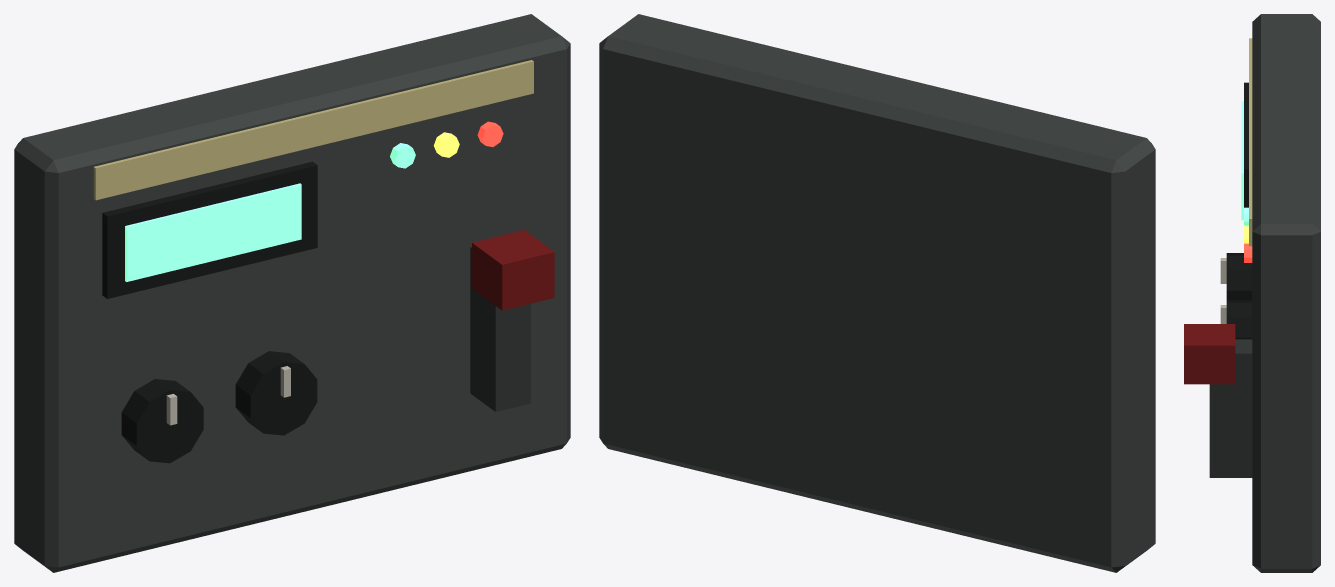
File: bang_dong_lanh.glb
3 renders of one model, left to right at view 1: azimuth 30°, elevation 25°; view 2: azimuth 150°, elevation 25°; view 3: azimuth 270°, elevation 25°, orthographic. The views are drawn at different scales.
Parts seen in each view (by area): view 1: bang_dong_lanh; view 2: bang_dong_lanh; view 3: bang_dong_lanh.
Part boxes in pixels (box(x1,y1,x2,y2)): bang_dong_lanh: box(14, 14, 570, 572); bang_dong_lanh: box(599, 14, 1155, 572); bang_dong_lanh: box(1184, 14, 1320, 572).
Bounding box in the file's own units: 0.6 × 0.45 × 0.16.
